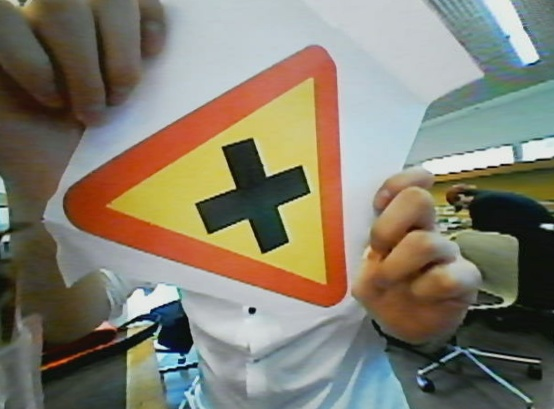junction: (42, 42, 359, 316)
